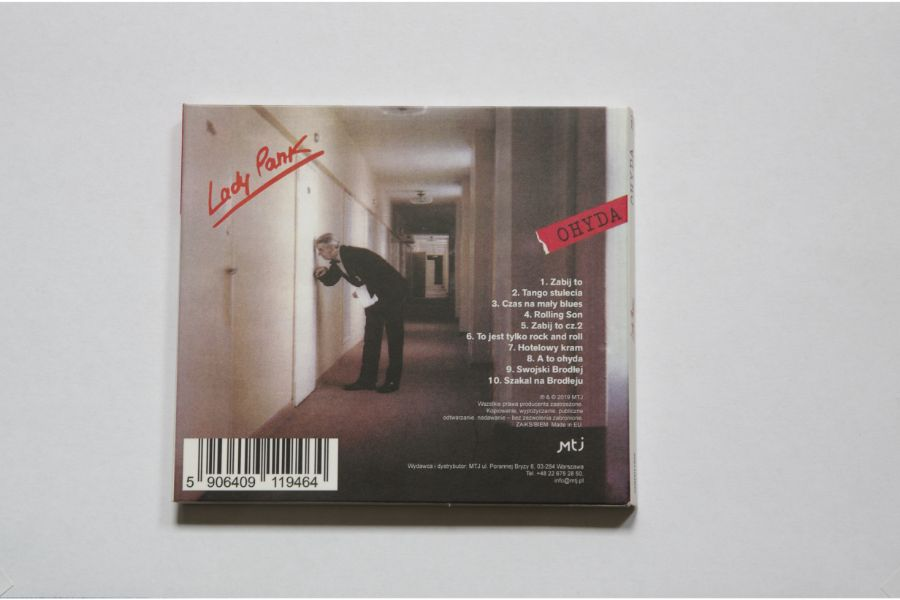album: (171, 102, 639, 515)
